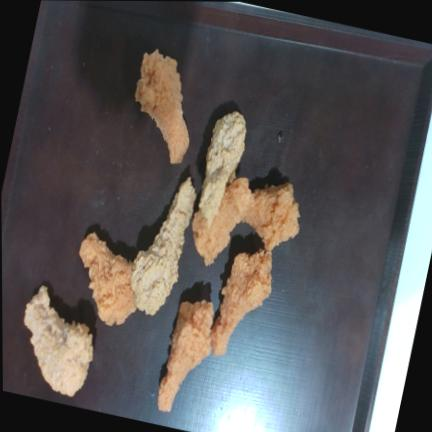chicken: (131, 178, 196, 314), (24, 286, 93, 396), (211, 249, 272, 354), (158, 300, 213, 412), (135, 49, 189, 163), (199, 111, 246, 227), (192, 177, 252, 265), (80, 233, 137, 325), (243, 183, 300, 251)
